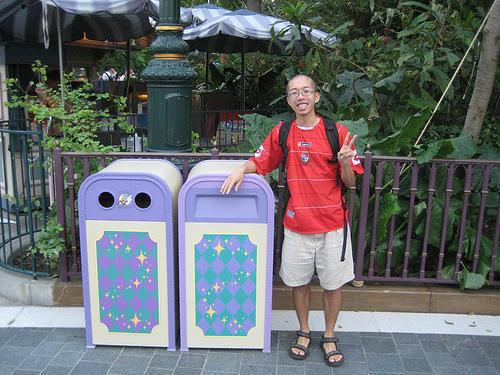Bote de Basura: (180, 161, 278, 350), (85, 162, 182, 348)
